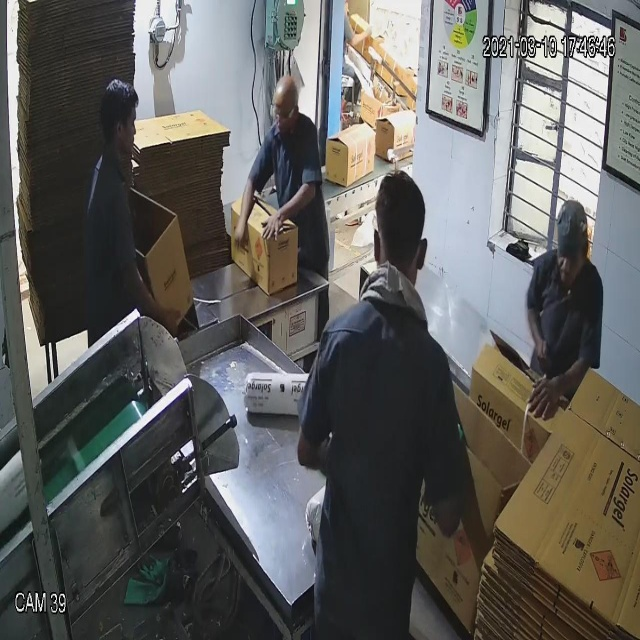Sin_guantes: (519, 337, 592, 437), (124, 252, 183, 345), (260, 183, 327, 255), (220, 159, 261, 265), (514, 287, 553, 369)
